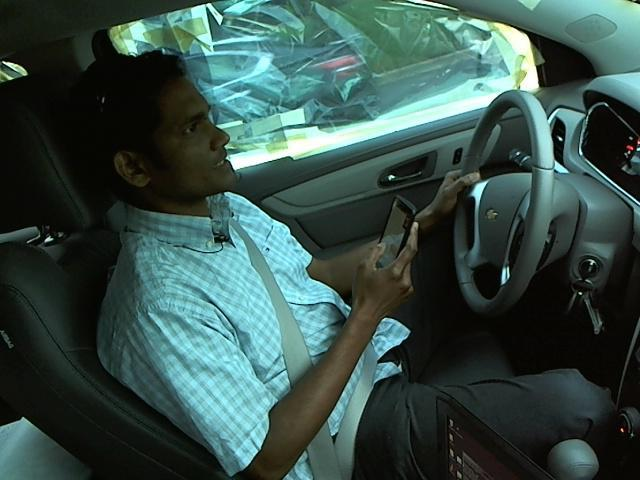PhoneUse: (366, 185, 421, 279)
